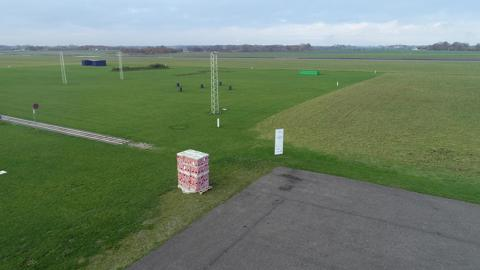RockwoolPallet: (176, 148, 210, 194)
